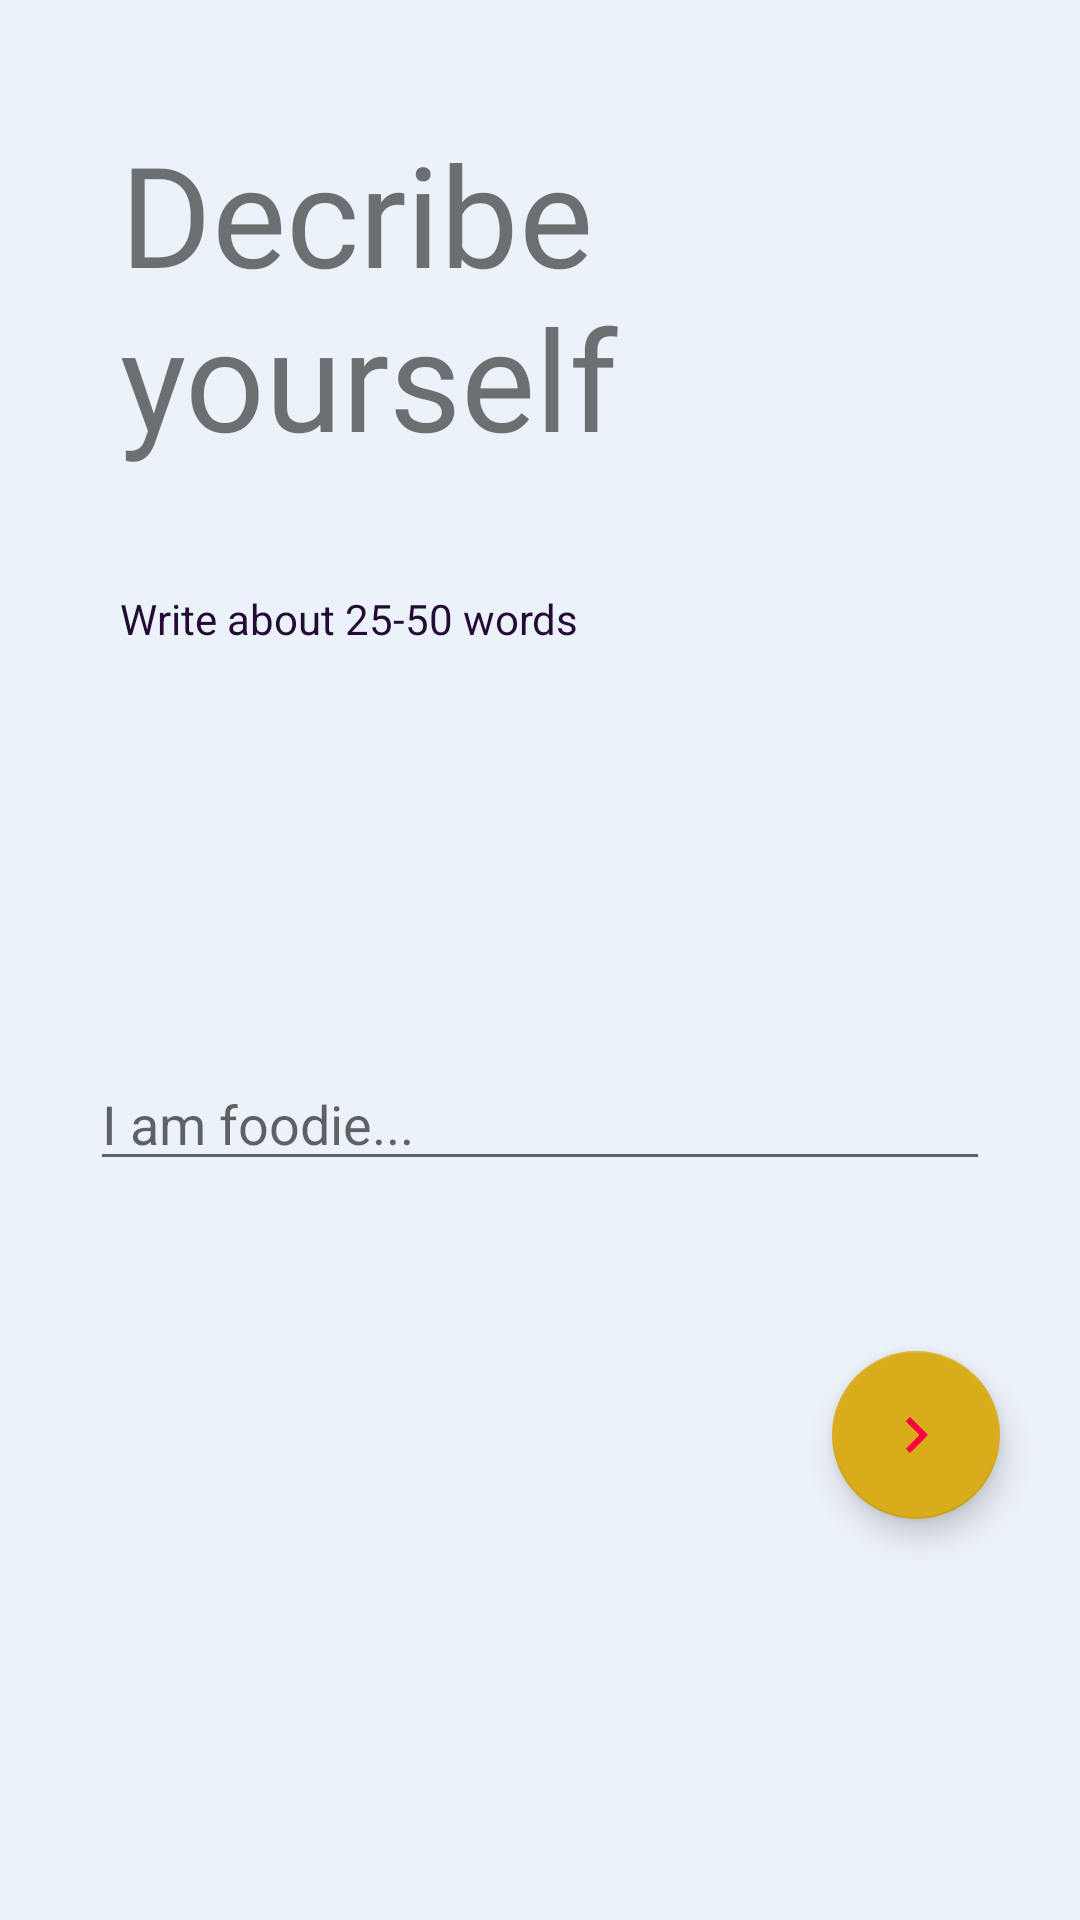

Icon click points for this 1080×1920 phone screenshot, format (x=x, y=y):
go right: (x=916, y=1435)
